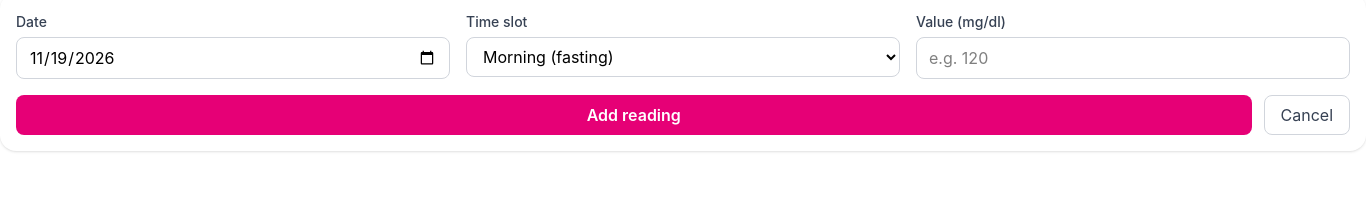
Test case: ReadingForm › value "39" shows "Value must be between 40 and 600 mg/dl."
Type "39" into the number field labelled "Value (mg/dl)".
click(1133, 58); type("39")  # box [916, 37, 1350, 79]
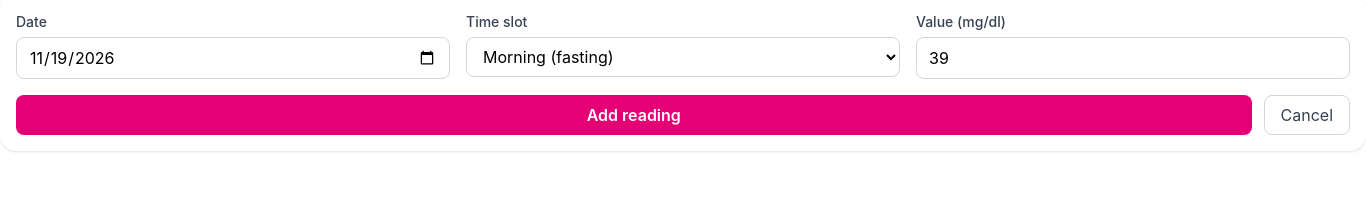
Click the button "Add reading".
click(634, 115)  # box [16, 95, 1252, 135]
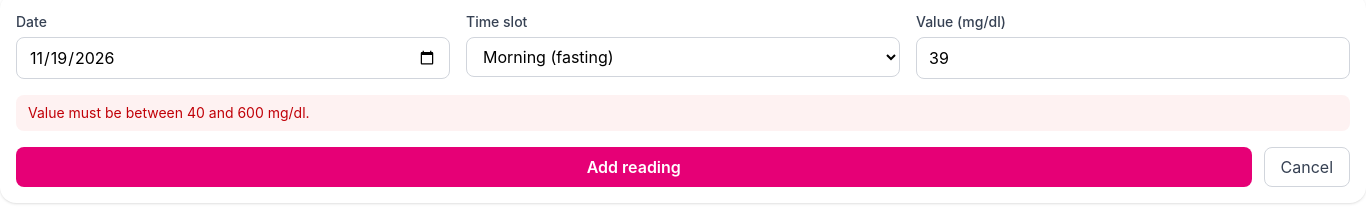
Expected: the text "Value must be between 40 and 600 mg/dl." is shown, [16, 95, 1350, 131]
